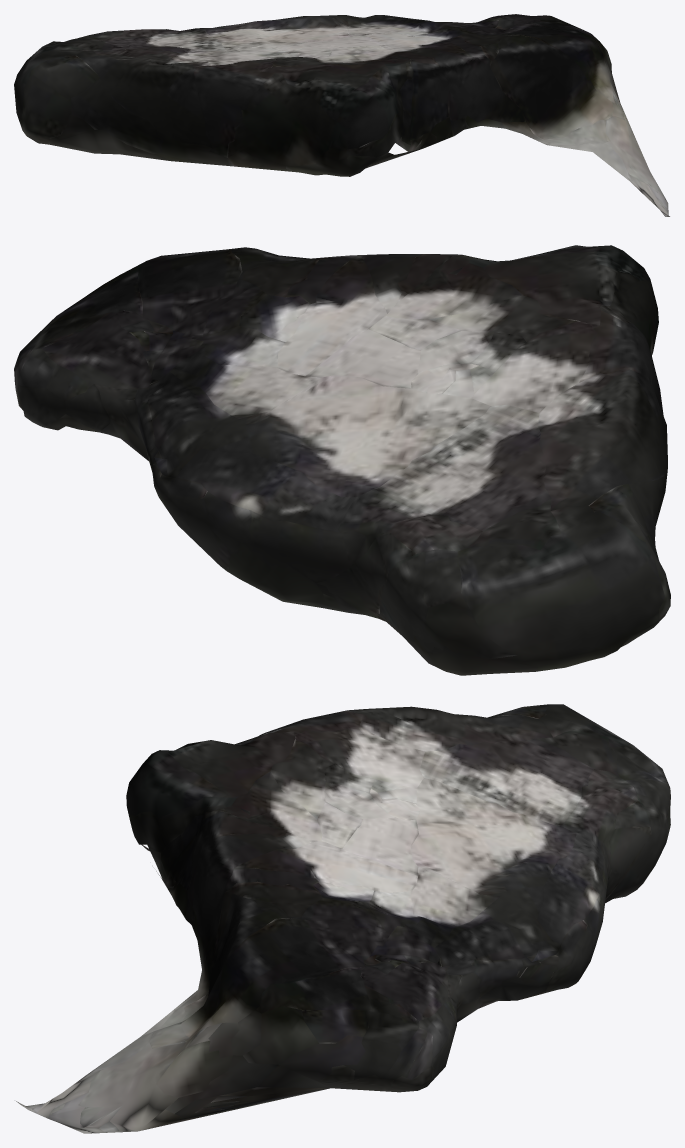
Rendered from hall.glb.
3 views of the same model, one above another, from view 1: azimuth 30°, elevation 25°; view 2: azimuth 150°, elevation 25°; view 3: azimuth 270°, elevation 25° (orthographic). The views are drawn at different scales.
Bounding box in the file's own units: 0.7387 × 0.2239 × 0.6486.
1 material, 1 textured.
